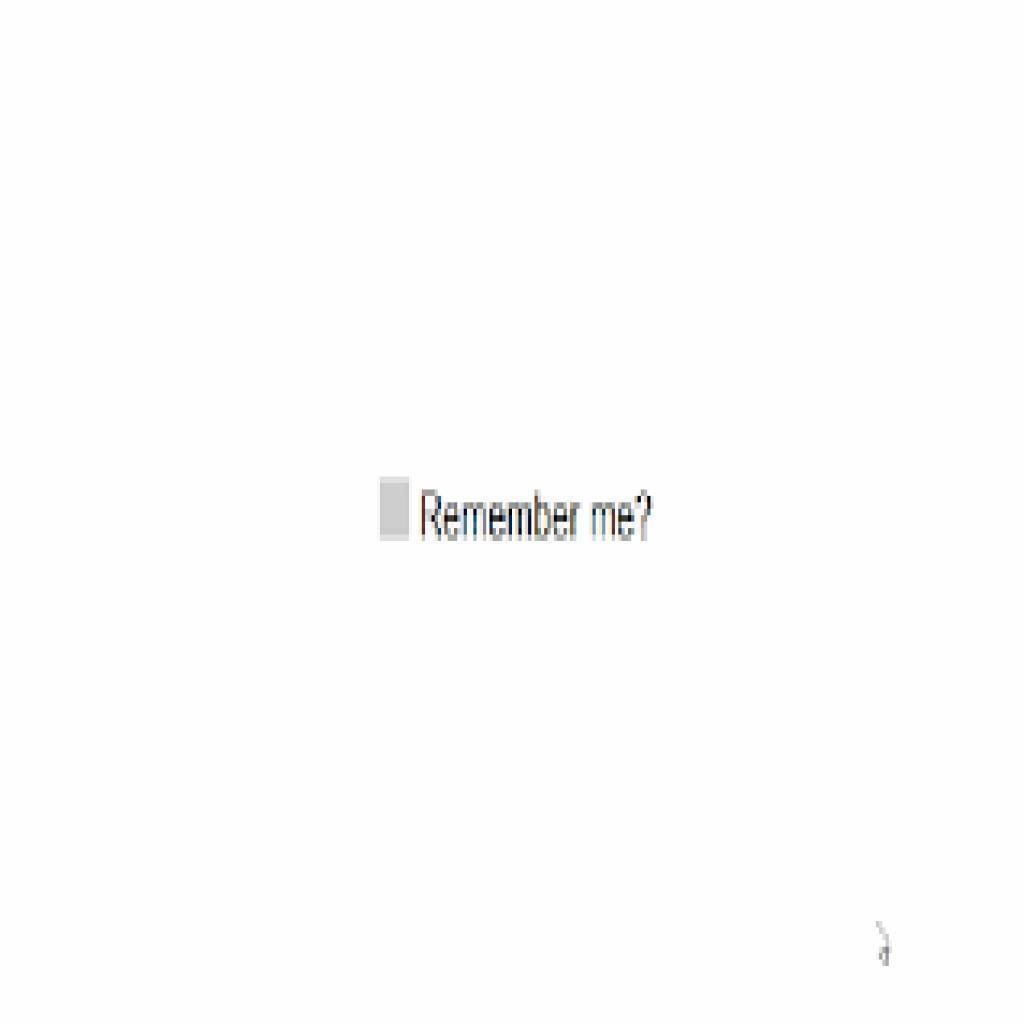checkbox: (379, 474, 411, 540)
label: (419, 490, 653, 552)
